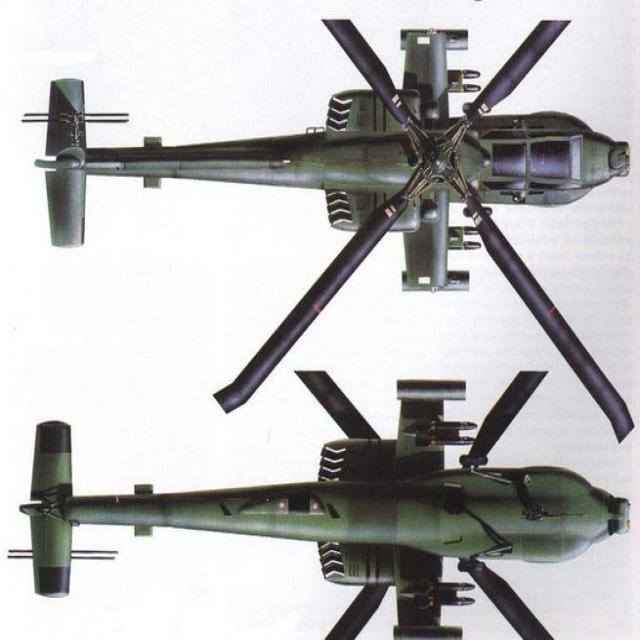MIL_HELO: (47, 14, 640, 442), (7, 361, 639, 640)
